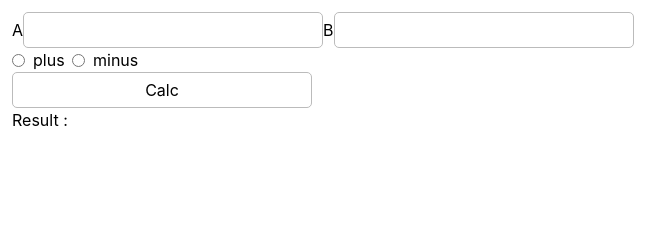
Test case: cal 단위 테스트 › 숫자가 아닌 값은 에러 메세지를 출력한다.
Type "1a" into the field labelled "A" at (173, 30), box x1=23 y1=12 x2=323 y2=48
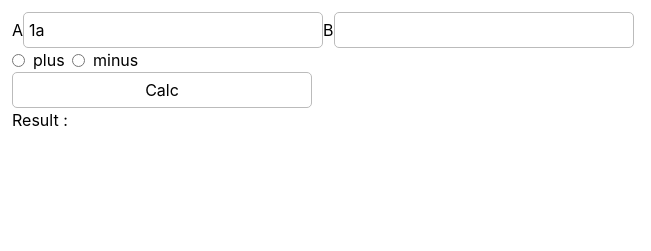
Type "2b" into the field labelled "B" at (484, 30), box x1=334 y1=12 x2=634 y2=48
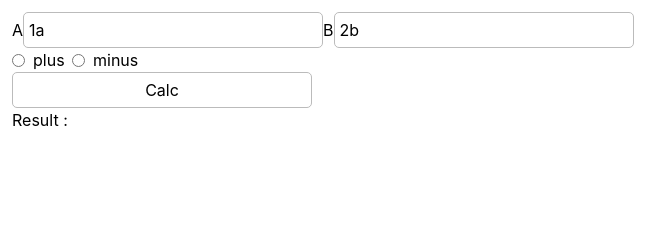
Click the button "Calc" at (162, 90), box x1=12 y1=72 x2=312 y2=108
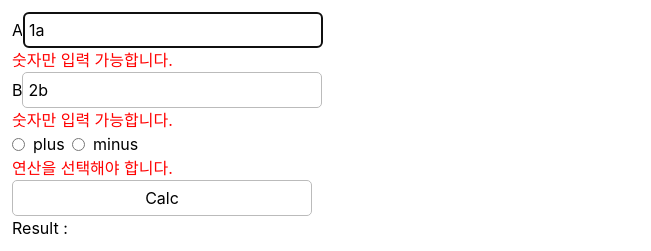
Now the text with test id "error-a" reads "숫자만 입력 가능합니다.", box x1=12 y1=50 x2=173 y2=70
Now the text with test id "error-b" reads "숫자만 입력 가능합니다.", box x1=12 y1=110 x2=173 y2=130
